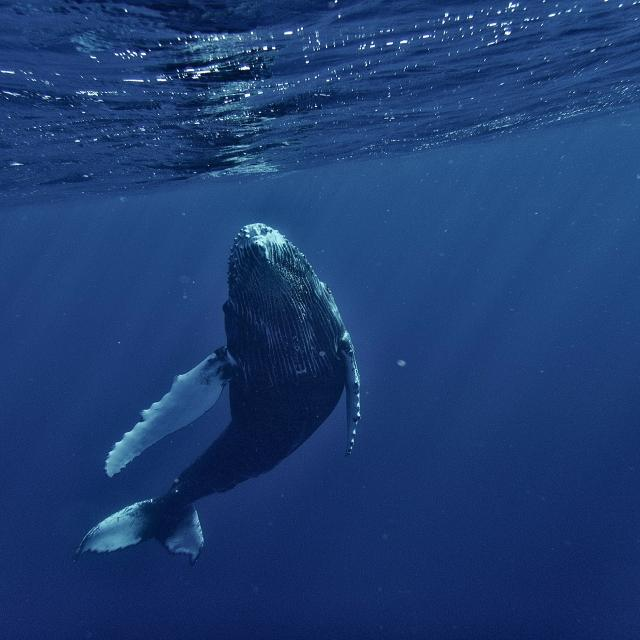jellyfish: (76, 223, 360, 563)
